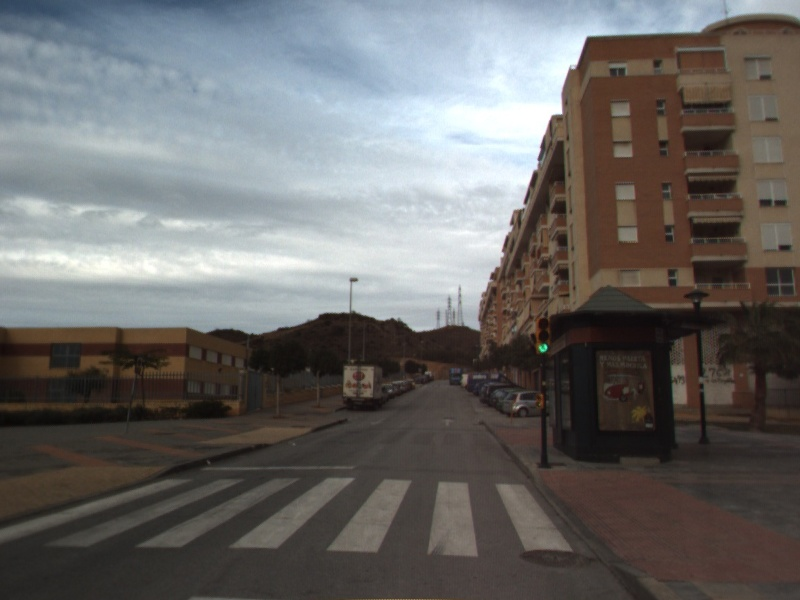STRAIGHT: (440, 416, 457, 428)
